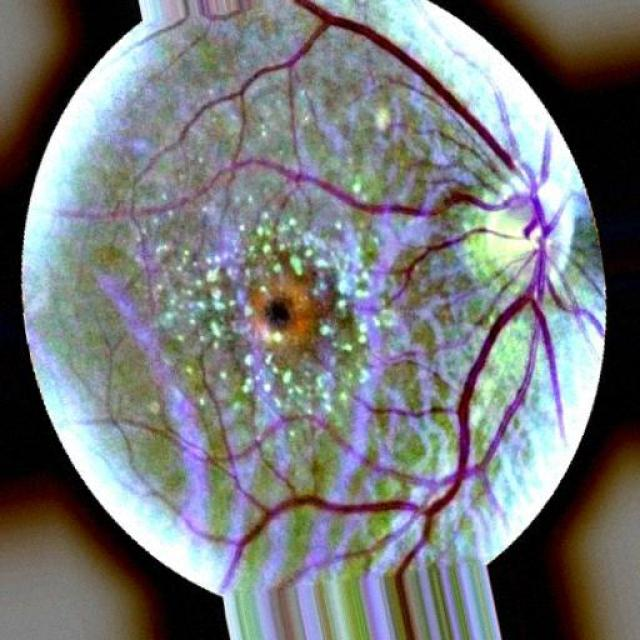Macula: (236, 266, 324, 361)
Nerves: (228, 266, 540, 581), (203, 16, 544, 238), (147, 158, 538, 291)
Optic Disk: (471, 155, 580, 299)
